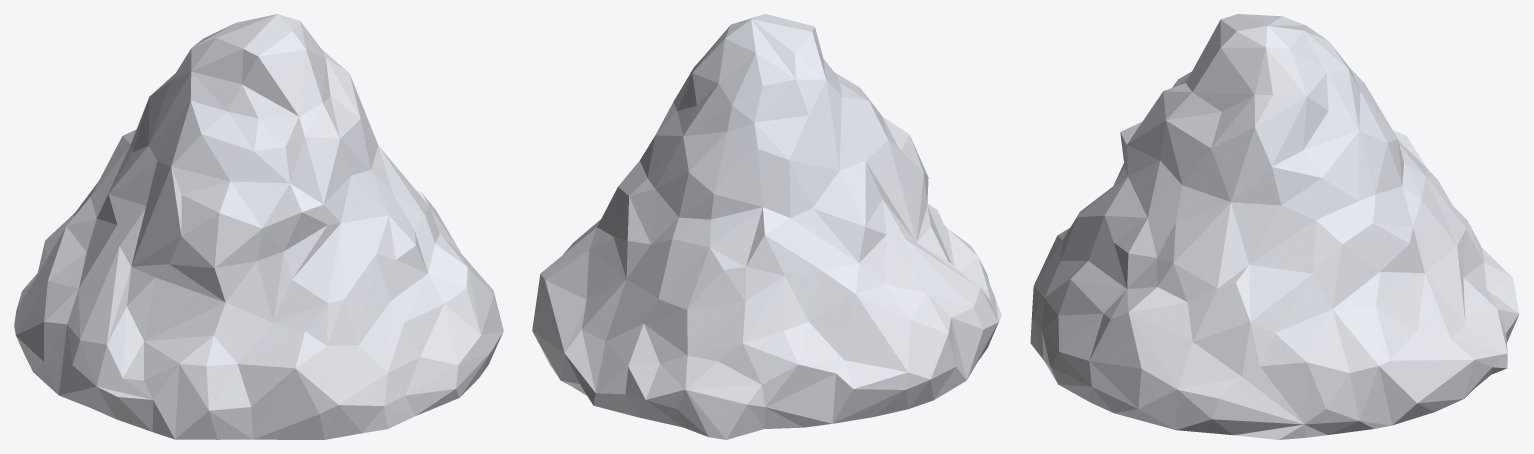
Rendered from Mountain_Sin_2B.fbx.
The picture shows the model from 3 angles, left to right: view 1: azimuth 30°, elevation 25°; view 2: azimuth 150°, elevation 25°; view 3: azimuth 270°, elevation 25°; orthographic projection. The views are drawn at different scales.
Parts seen in each view (by area): view 1: Group64599; view 2: Group64599; view 3: Group64599.
Part boxes in pixels (<box>): Group64599: <box>14,14,503,439</box>; Group64599: <box>532,14,1001,439</box>; Group64599: <box>1030,14,1519,439</box>.
Bounding box in the file's own units: 31.81 × 24.67 × 33.44.
1 material, 1 textured.
